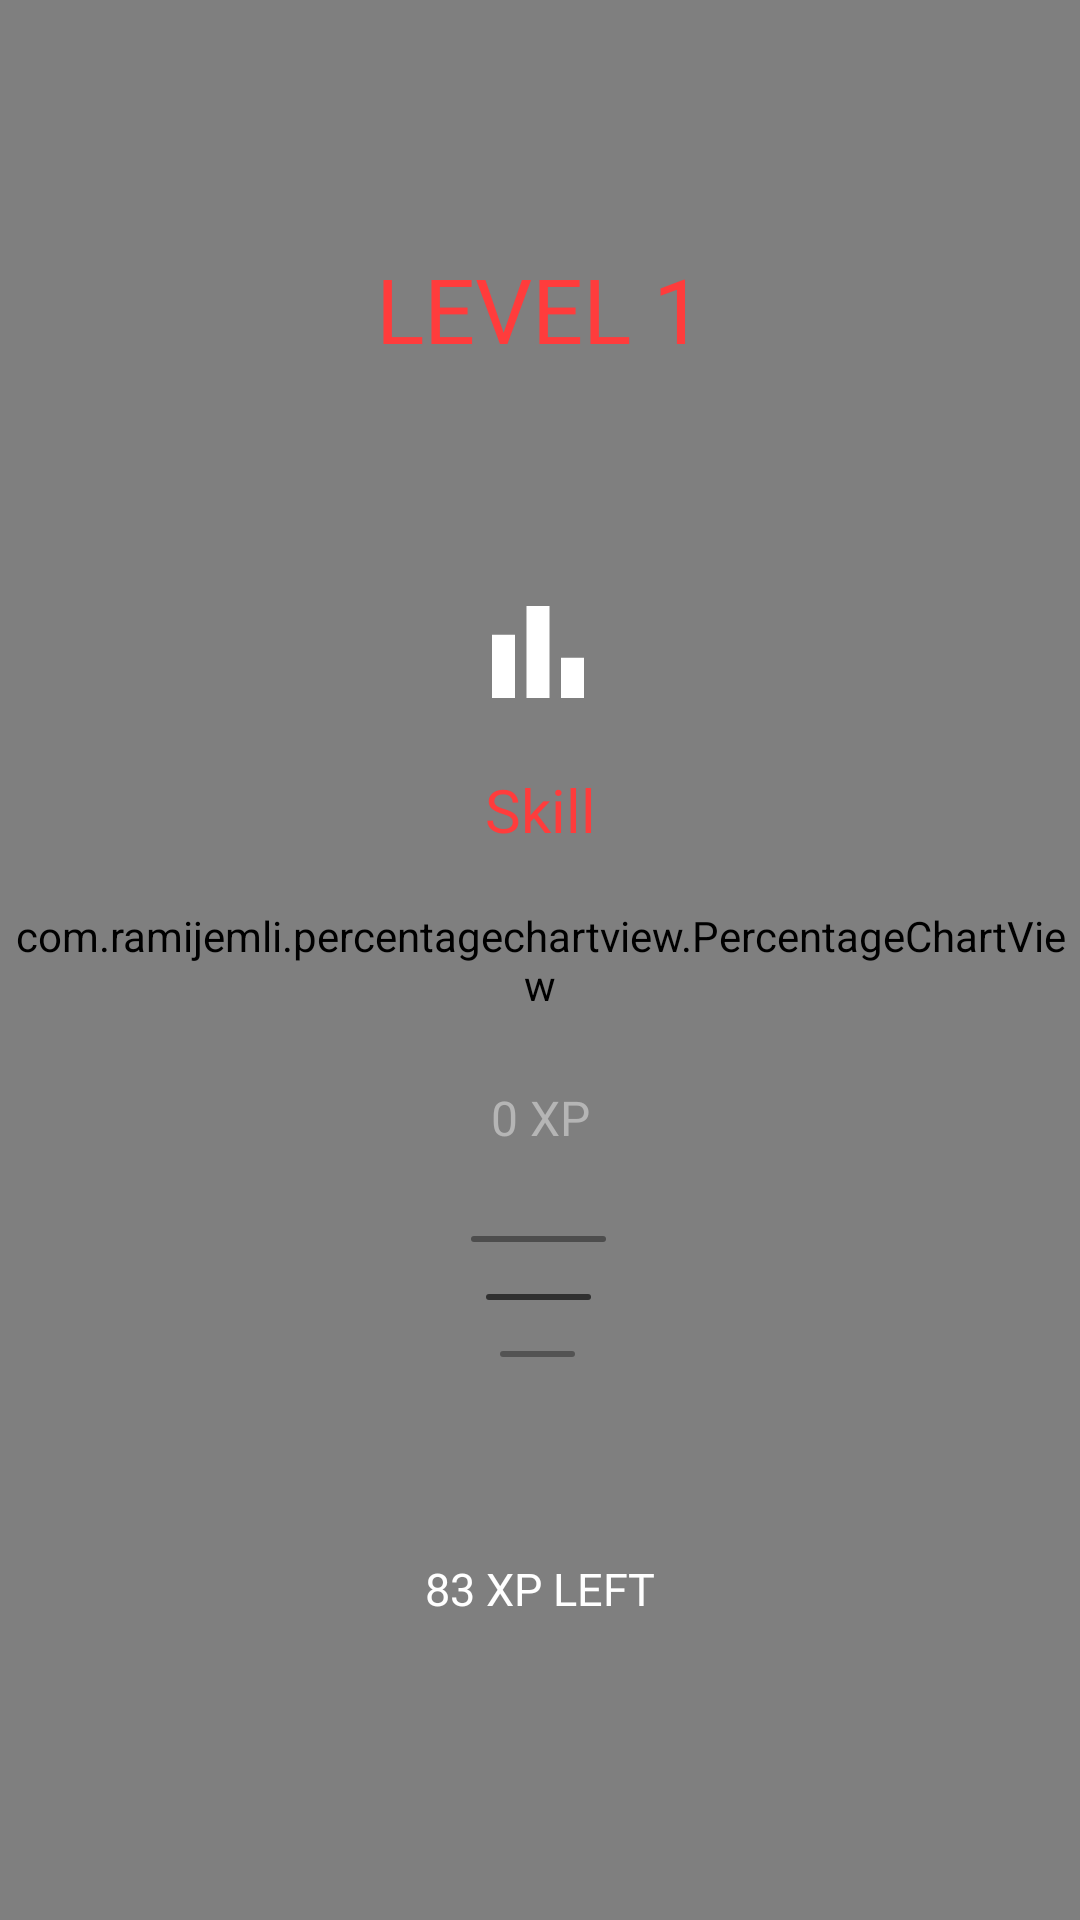

Icon click points for this 1080w x 1920h phone screenshot, format [x,y]:
bar chart: [538,652]
